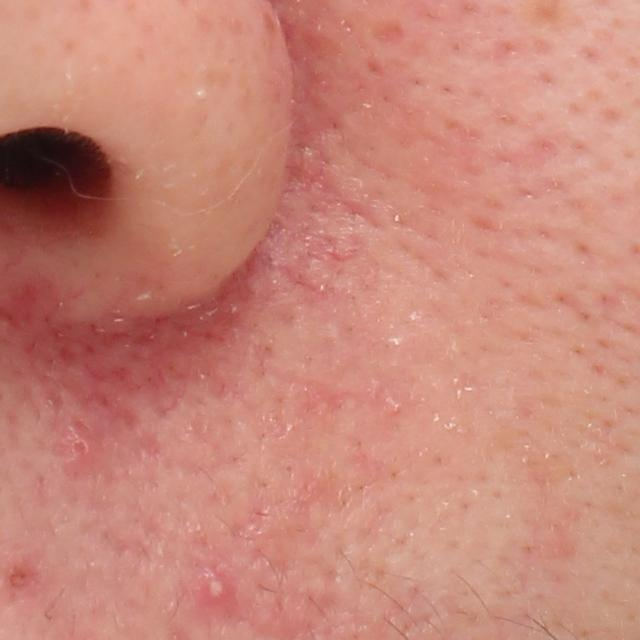pustule: (196, 567, 243, 607)
